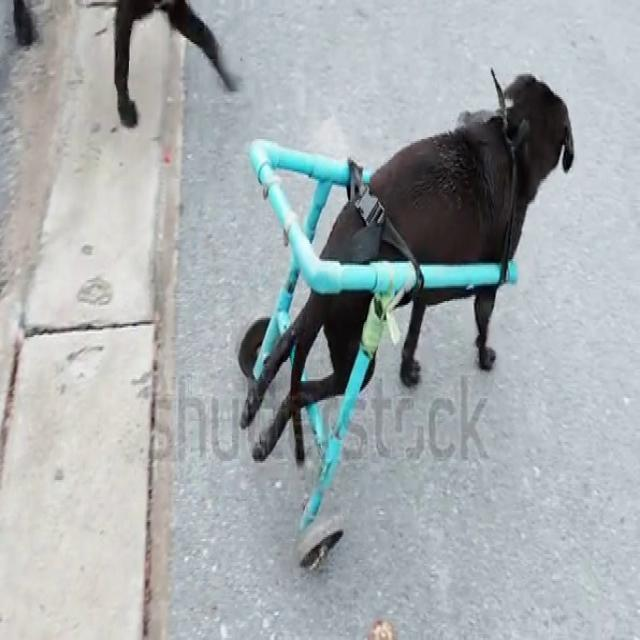injured-animals: (232, 61, 577, 573)
